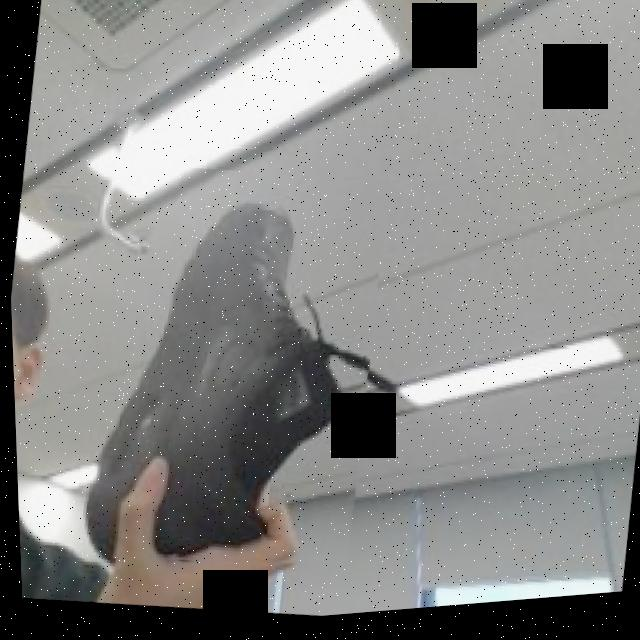shoe: (41, 145, 399, 598)
